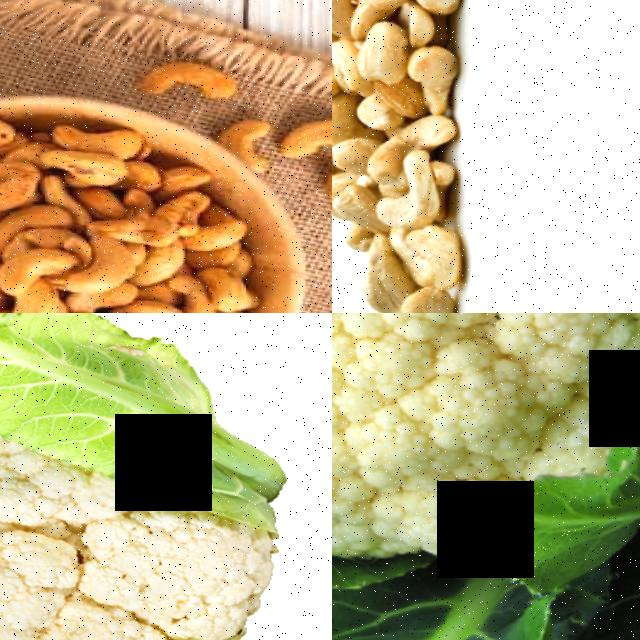cashew: (125, 42, 254, 105), (382, 101, 486, 172), (368, 168, 448, 236), (343, 31, 423, 93), (21, 153, 131, 195), (349, 236, 409, 313), (46, 119, 147, 160), (62, 239, 127, 300), (275, 107, 332, 164), (409, 232, 467, 288), (189, 264, 251, 313), (164, 221, 245, 258), (0, 250, 67, 291), (219, 114, 271, 162), (132, 246, 187, 290), (332, 176, 379, 220), (0, 156, 33, 218), (332, 0, 380, 39), (0, 283, 61, 313), (395, 292, 469, 313), (332, 133, 364, 180), (360, 0, 418, 15), (315, 173, 332, 216)
cauliflower: (0, 313, 267, 640), (332, 313, 640, 593)
